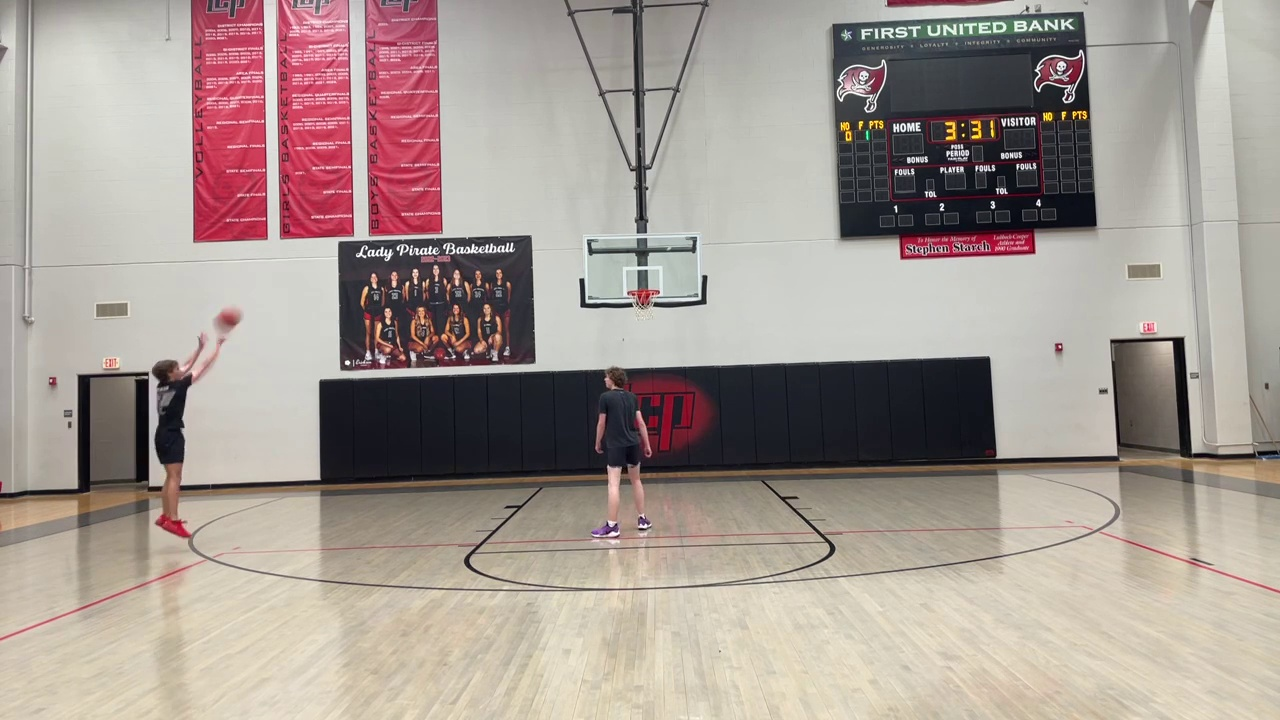shooting player: (151, 304, 243, 537)
